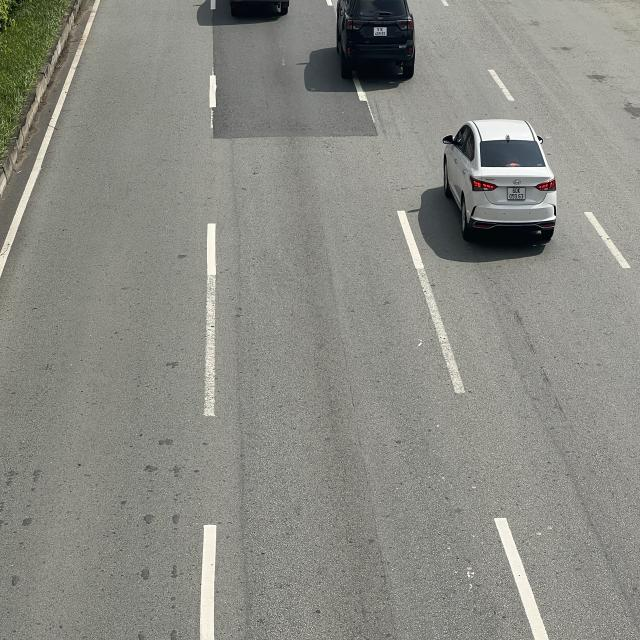car: (443, 115, 558, 244), (332, 1, 418, 76)
